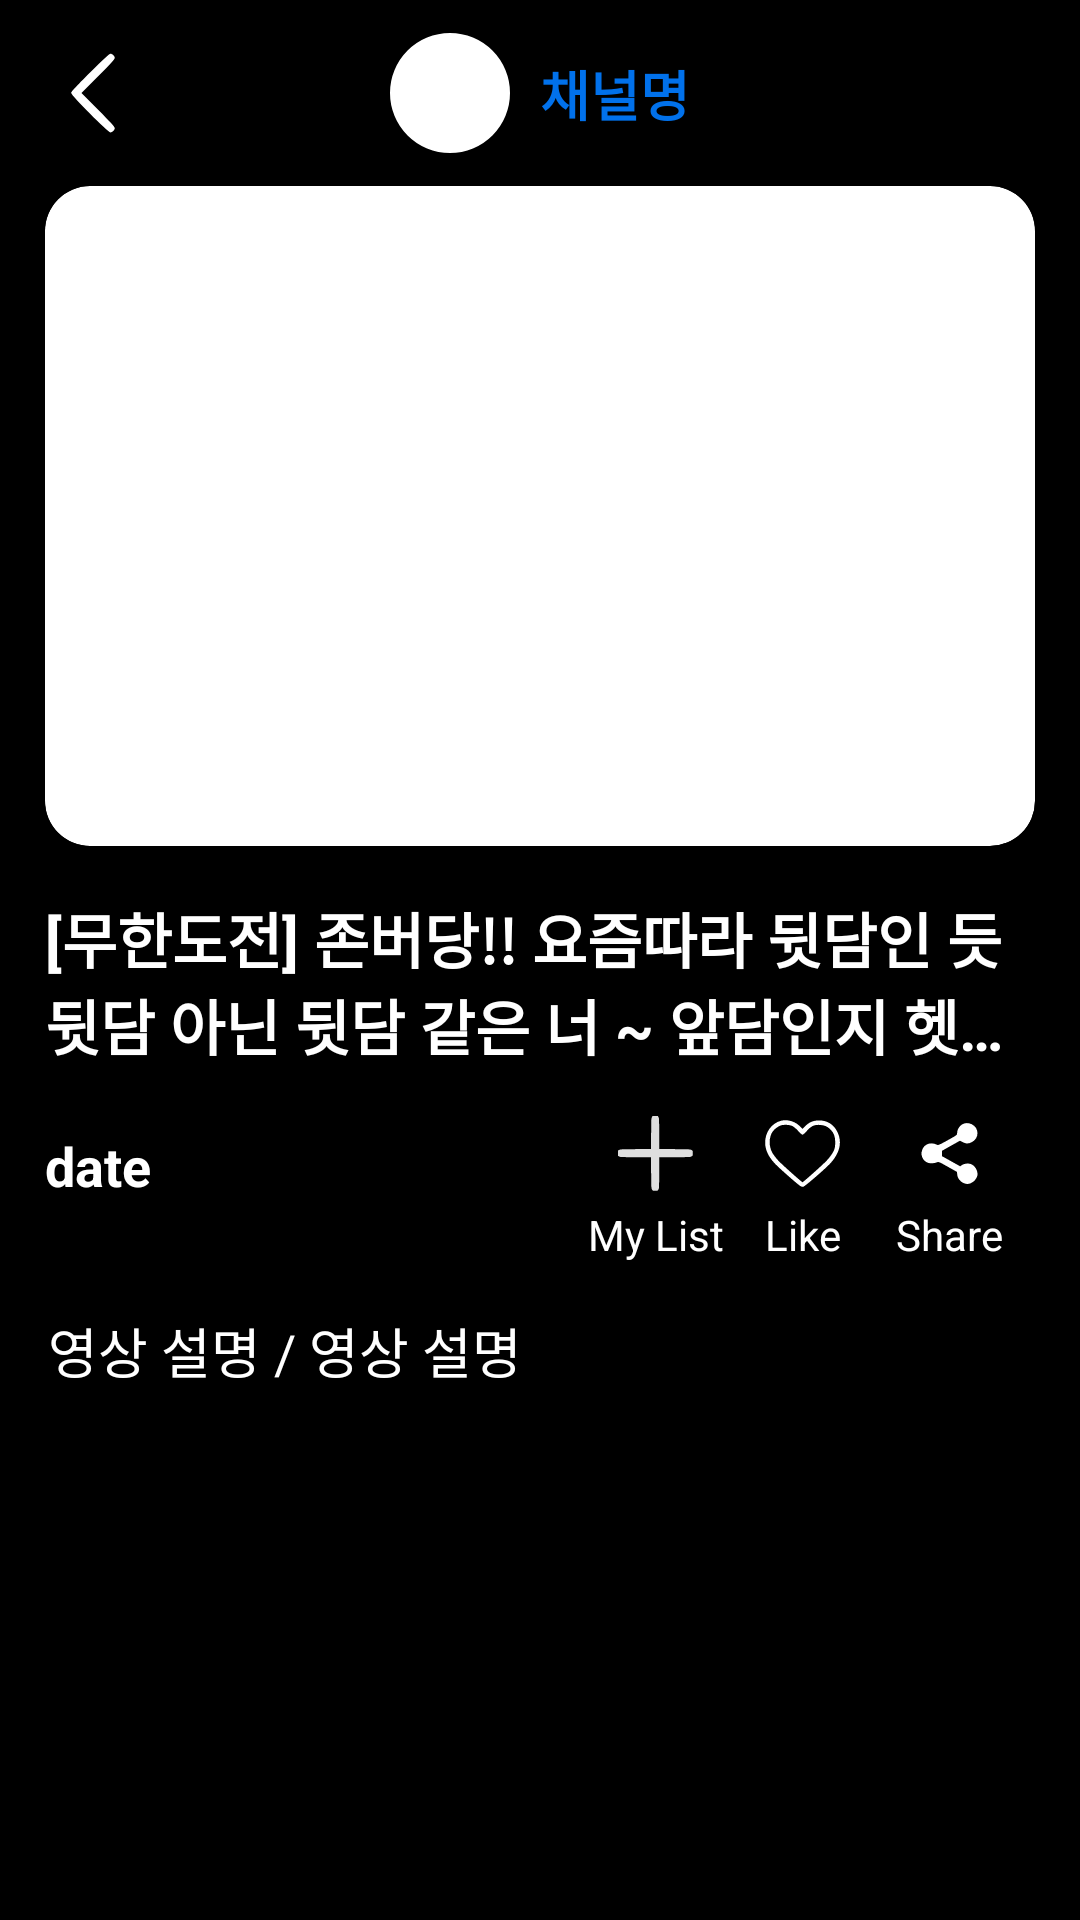

Named icons in this screenshot (1080 x 1920) and their centers, point (x, y):
back: point (93, 93)
